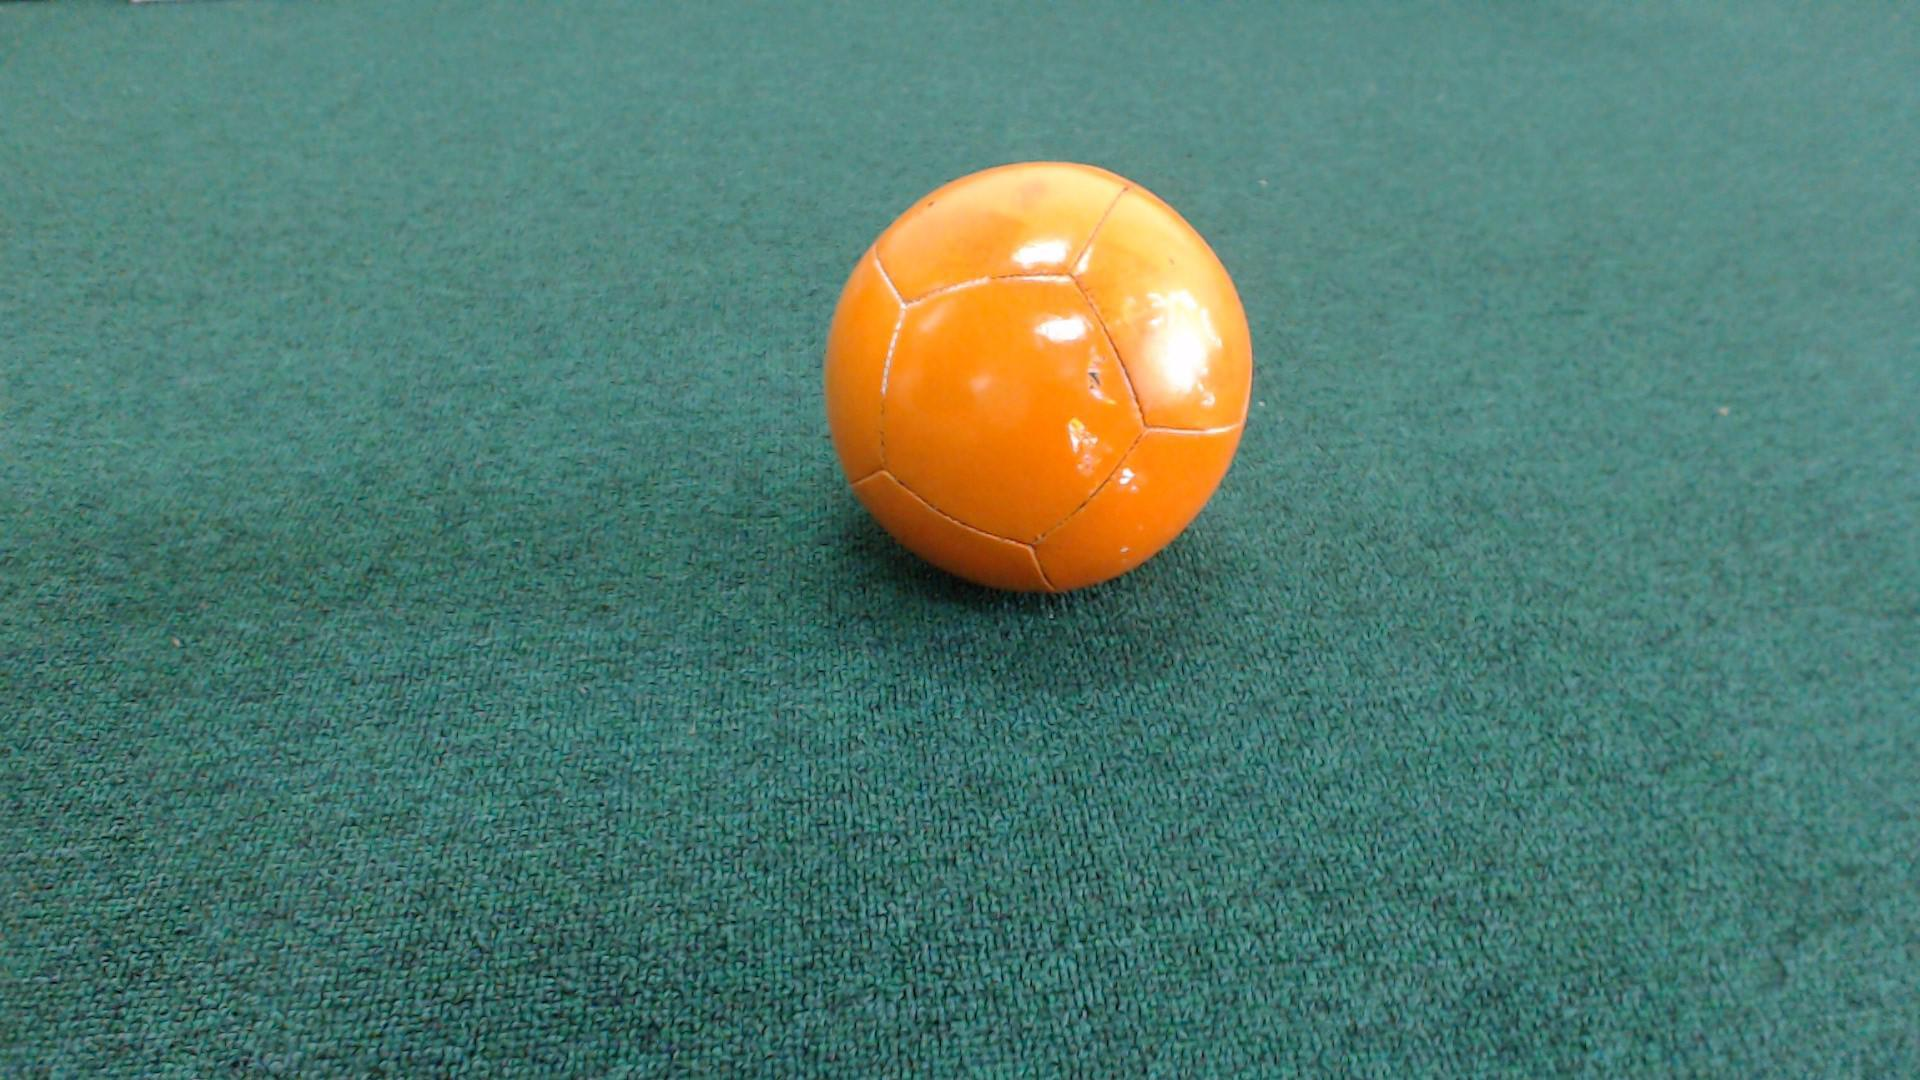bola: (808, 156, 1278, 626)
